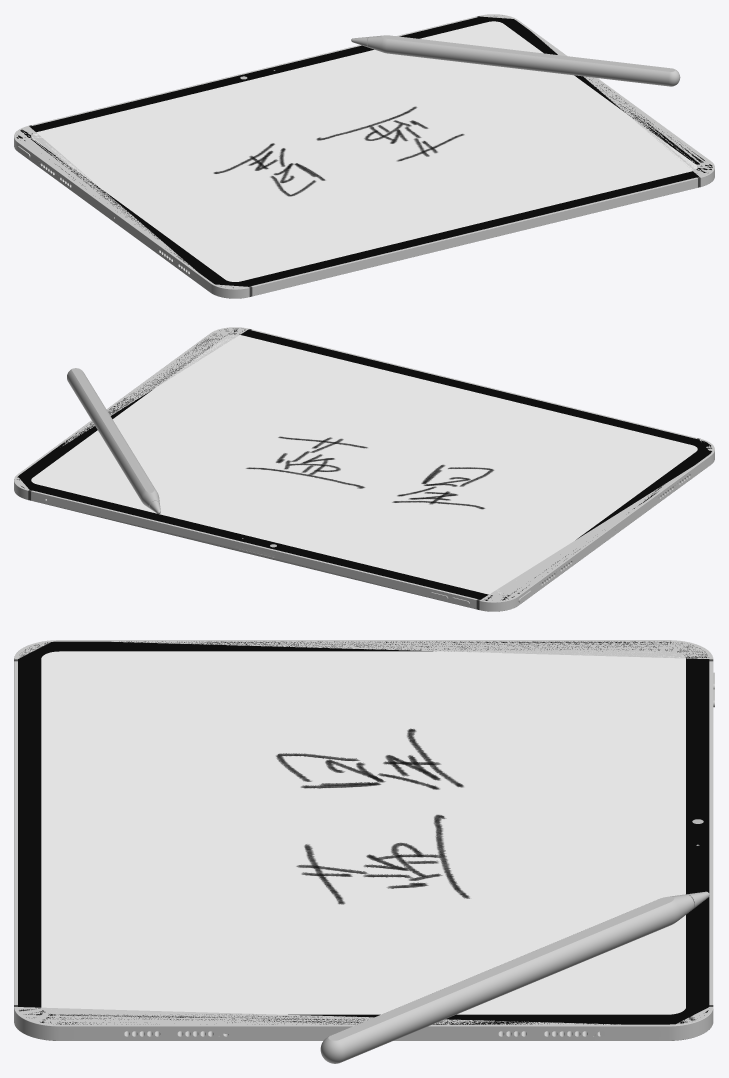
Rendered from O_N_Pad.fbx.
3 views of the same model, one above another, from view 1: azimuth 30°, elevation 25°; view 2: azimuth 150°, elevation 25°; view 3: azimuth 270°, elevation 25° (orthographic). The views are drawn at different scales.
Parts seen in each view (by area): view 1: Extruded.009, Extruded.001, Extruded.011, Apple Pencil (2nd generation) Body; view 2: Extruded.009, Extruded.001, Extruded.011, Apple Pencil (2nd generation) Body; view 3: Extruded.009, Extruded.001, Extruded.011, Apple Pencil (2nd generation) Body.
Part boxes in pixels (x1,y1,x2,y2): Extruded.009: (31,21,697,281); Extruded.001: (14,14,714,298); Extruded.011: (16,16,712,287); Apple Pencil (2nd generation) Body: (351,35,680,86); Extruded.009: (31,335,697,594); Extruded.001: (14,327,714,611); Extruded.011: (17,328,711,600); Apple Pencil (2nd generation) Body: (67,368,160,513); Extruded.009: (41,651,685,1014); Extruded.001: (14,640,713,1040); Extruded.011: (18,641,709,1024); Apple Pencil (2nd generation) Body: (320,891,709,1063).
Size of the model in its own units: 31.31 by 1.59 by 21.6.
